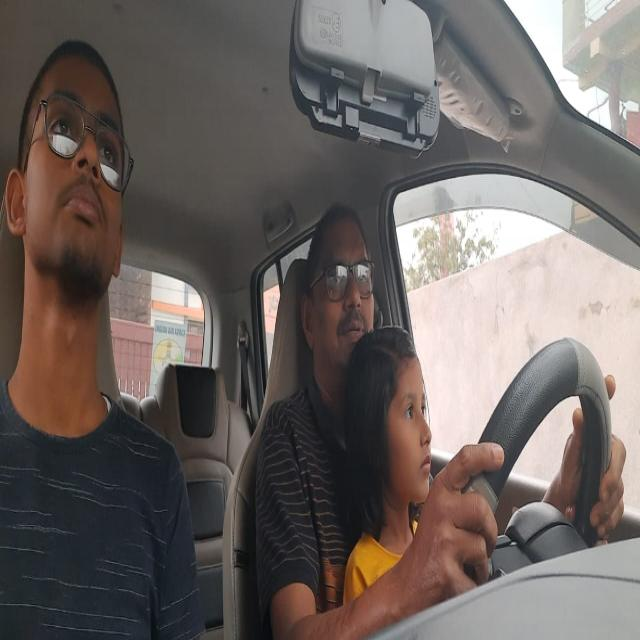child: (357, 322, 436, 516)
person: (6, 20, 134, 338), (301, 199, 378, 381)
